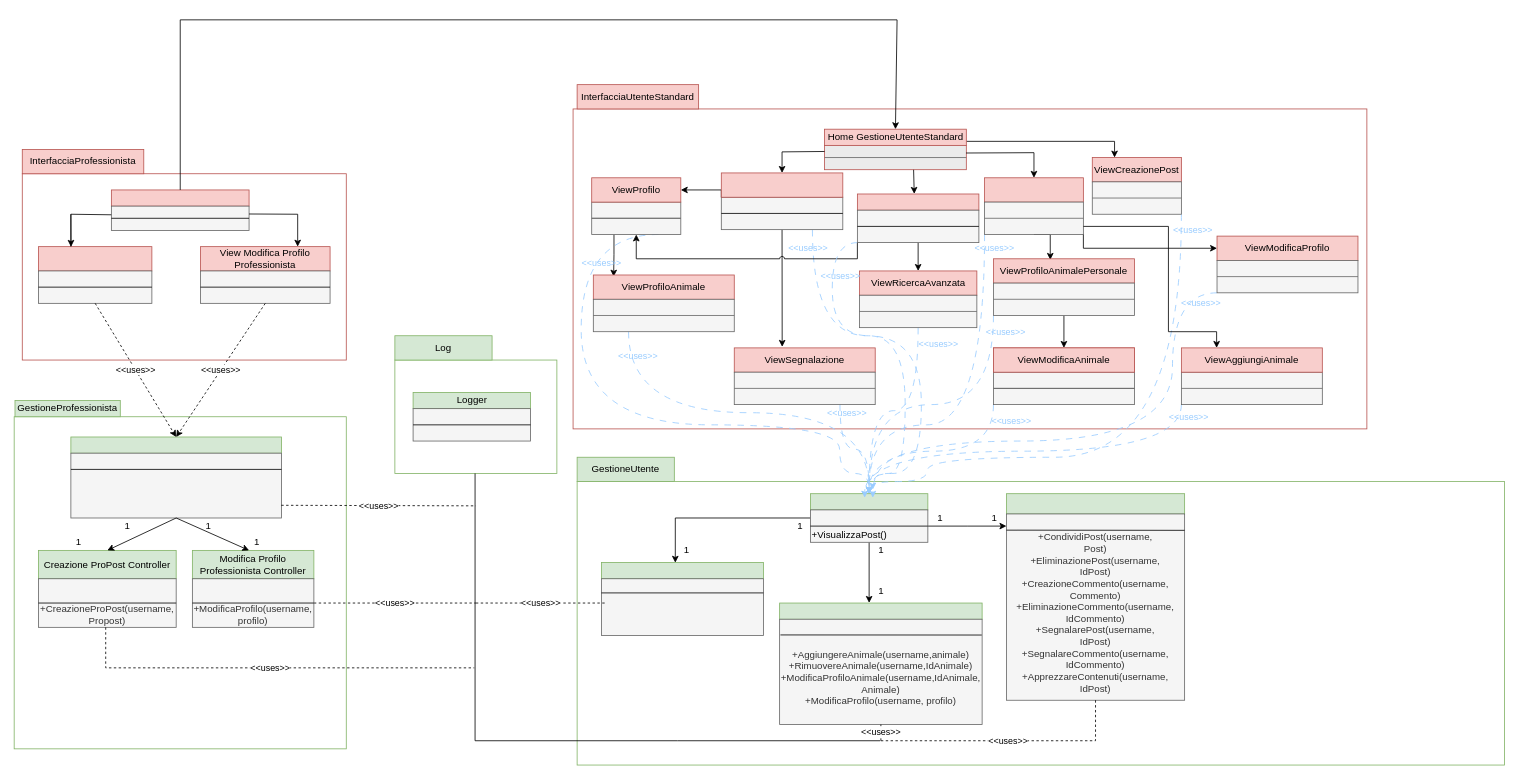
Some shapes in this 1519 by 779 pixel diagram are drawn without their labels. Here are the shapes that lost their labels. From the top down, the centre of each, then its label:
[180,197]: Home Gestione Professionista
[781,184]: ViewPost
[918,201]: ViewRicerca
[1033,189]: ViewProfiloPersonale
[95,258]: View Creazione ProPost
[175,444]: GestioneProfessionista Controller
[471,424]: +AggiungiLog(VoceDiLog)
[869,501]: HomeController
[1095,503]: GestioneContenutiController
[682,570]: RicercaController
[682,606]: +Ricerca(username) +Ricerca(username, zona, tipoProfilo, specie, professione)
[880,610]: GestioneProfiloController
